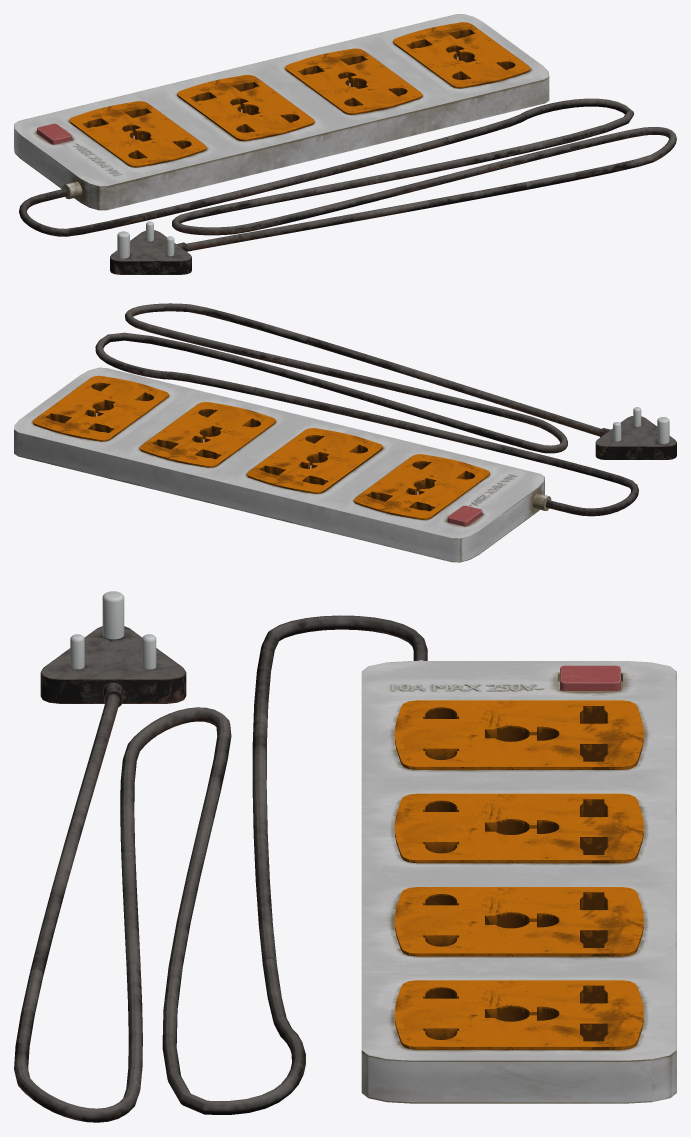
The model's file is extension_board.glb.
The picture shows the model from 3 angles, top to bottom: view 1: azimuth 30°, elevation 25°; view 2: azimuth 150°, elevation 25°; view 3: azimuth 270°, elevation 25°; orthographic projection. The views are drawn at different scales.
Parts seen in each view (by area): view 1: base_board_6, plugs_2, wire_8, Circle_5, Button_7; view 2: base_board_6, plugs_2, wire_8, Circle_5, Button_7; view 3: base_board_6, plugs_2, wire_8, Circle_5, Button_7, Cylinder_3, Cylinder.001_4.
Boxes of the visible parts, <box> form: base_board_6: <box>14,14,549,210</box>; plugs_2: <box>69,22,530,167</box>; wire_8: <box>19,98,676,251</box>; Circle_5: <box>110,230,191,274</box>; Button_7: <box>37,123,71,144</box>; base_board_6: <box>14,367,551,562</box>; plugs_2: <box>32,375,489,519</box>; wire_8: <box>95,303,638,516</box>; Circle_5: <box>595,416,676,459</box>; Button_7: <box>447,505,482,526</box>; base_board_6: <box>361,660,676,1103</box>; plugs_2: <box>395,700,643,1049</box>; wire_8: <box>14,615,427,1122</box>; Circle_5: <box>40,626,186,707</box>; Button_7: <box>560,665,620,690</box>; Cylinder_3: <box>102,591,124,639</box>; Cylinder.001_4: <box>70,634,156,669</box>.
Size of what is drawn, in the model's own units: 14.98 by 1.03 by 8.41.
Materials: 7 (7 with a texture image).
